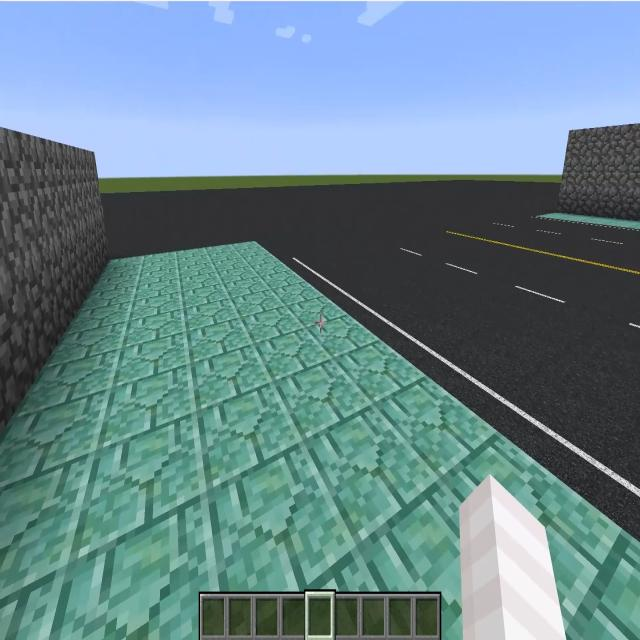road: (102, 185, 640, 540)
sidewalk: (0, 242, 640, 639), (537, 212, 640, 229)
